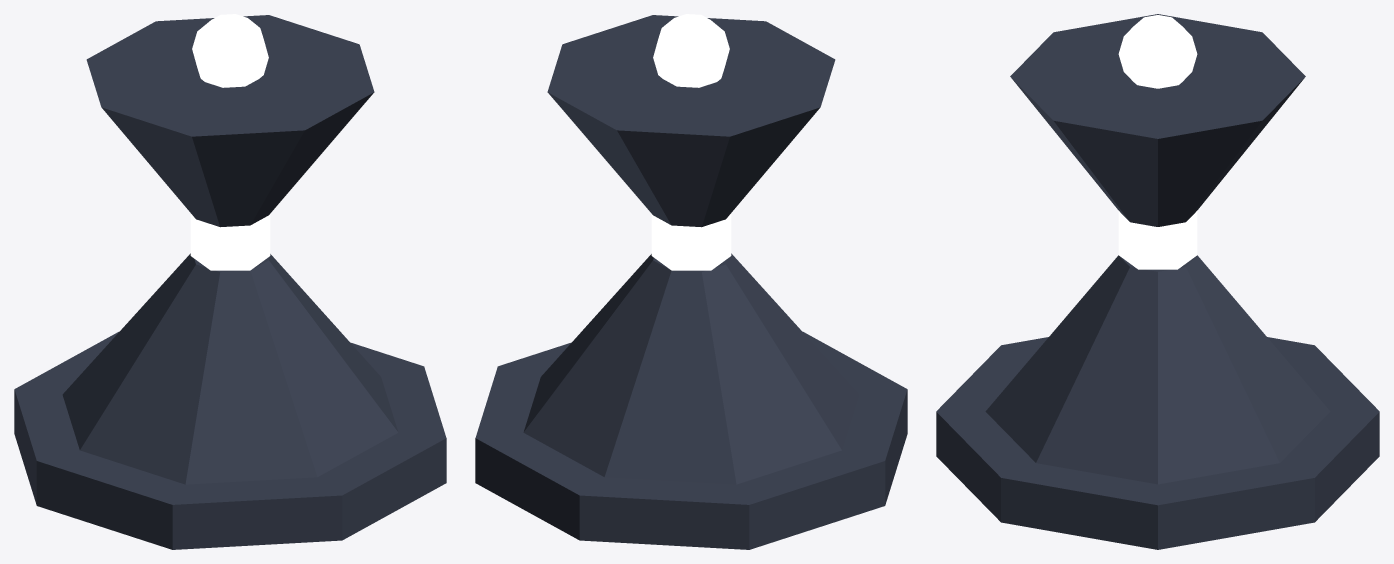
The model's file is tower_temporal.glb.
3 views of the same model, side by side, from view 1: azimuth 30°, elevation 25°; view 2: azimuth 150°, elevation 25°; view 3: azimuth 270°, elevation 25° (orthographic).
Parts seen in each view (by area): view 1: tower_temporal; view 2: tower_temporal; view 3: tower_temporal.
Boxes of the visible parts, x1,y1,x2,y2 form: tower_temporal: (14, 14, 446, 549); tower_temporal: (475, 14, 907, 549); tower_temporal: (936, 14, 1379, 549).
Size of the model in its own units: 0.9 by 0.98 by 0.9.
